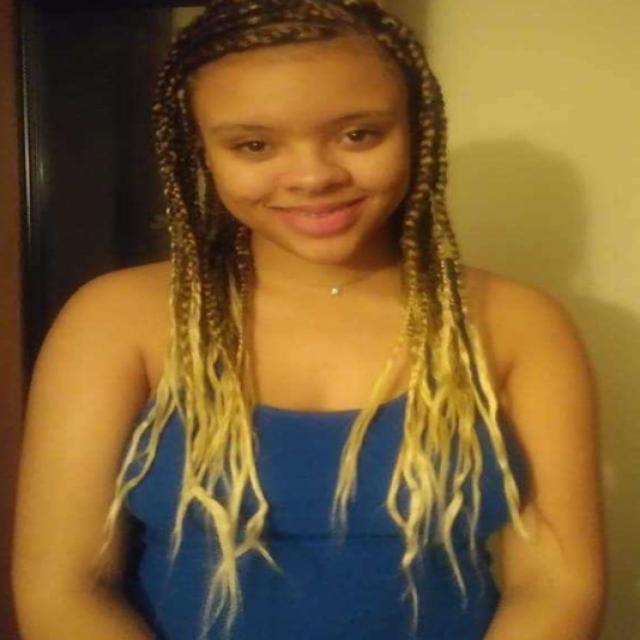human: (19, 0, 610, 640)
